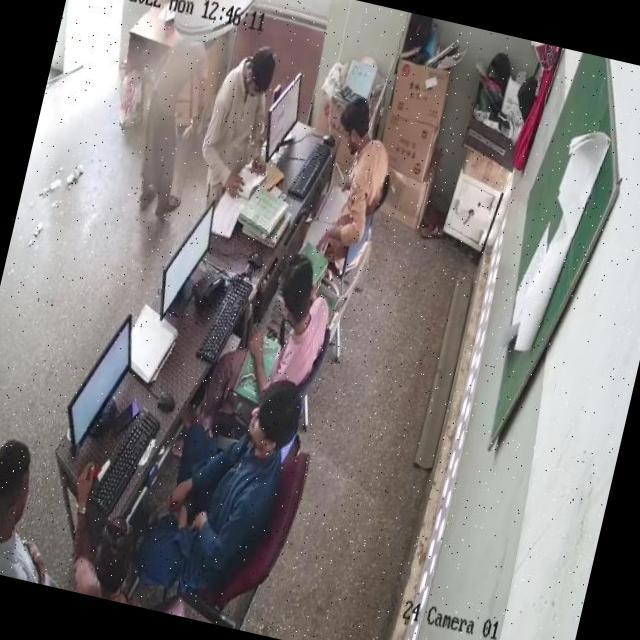person: (130, 357, 308, 628), (122, 26, 220, 225), (225, 239, 338, 406), (308, 89, 399, 262), (200, 34, 288, 204), (60, 484, 162, 606), (0, 434, 66, 582)
